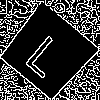L: (23, 26, 74, 80)
